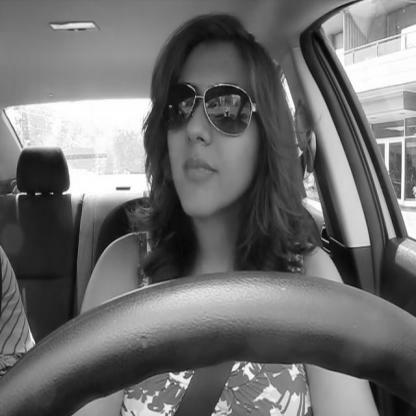seatbelt: (142, 4, 322, 416)
